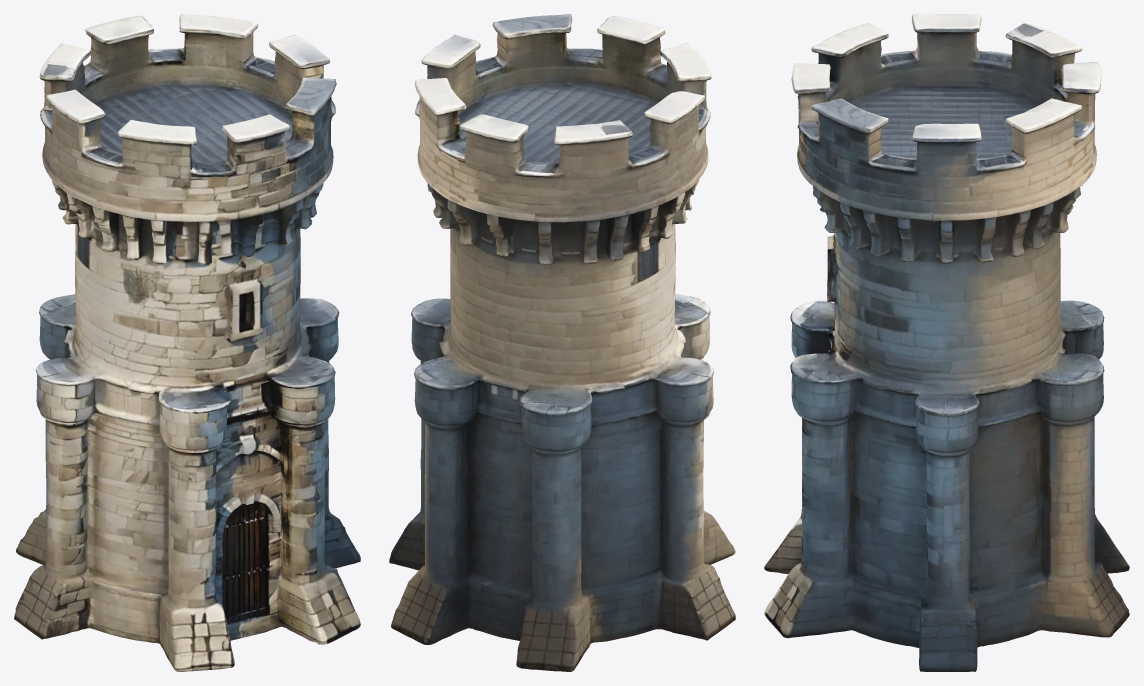
File: tower.glb
The picture shows the model from 3 angles, left to right: view 1: azimuth 30°, elevation 25°; view 2: azimuth 150°, elevation 25°; view 3: azimuth 270°, elevation 25°; orthographic projection.
Visible parts, largest first — view 1: model; view 2: model; view 3: model.
Part boxes in pixels (bbox=[...]): model: bbox=[14, 14, 360, 671]; model: bbox=[389, 14, 735, 671]; model: bbox=[764, 14, 1129, 671].
Bounding box in the file's own units: 1.2 × 1.85 × 1.18.
Materials: 1 (1 with a texture image).
